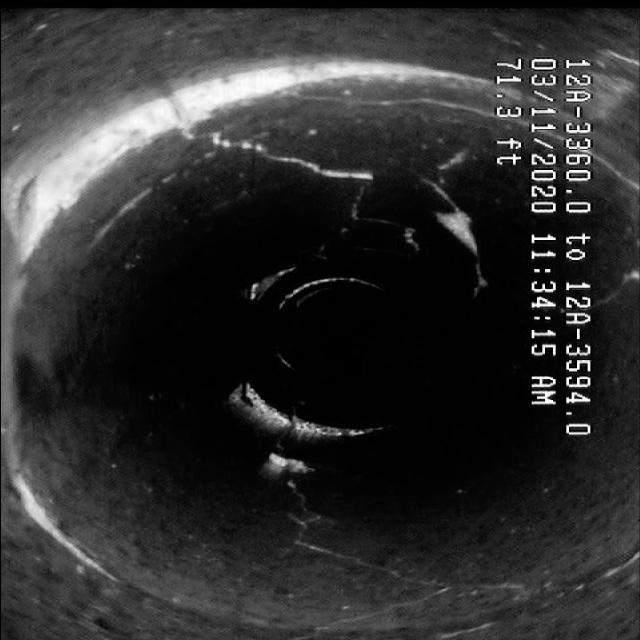Crack: (173, 131, 390, 195)
